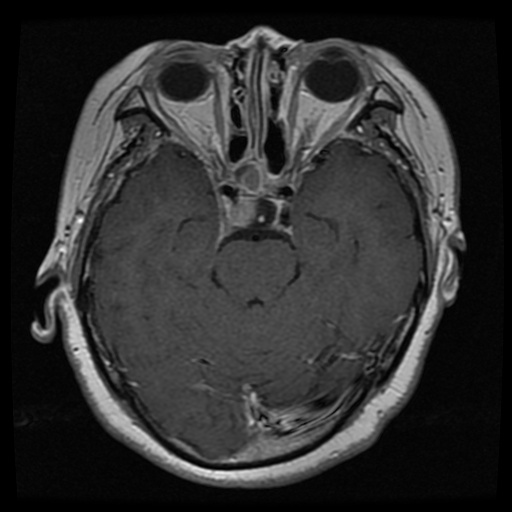pituitary: (230, 195, 280, 233)
